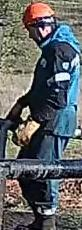gloves: (13, 114, 45, 146), (7, 97, 27, 131)
helmet: (21, 2, 57, 28)
vest: (28, 34, 80, 141)
